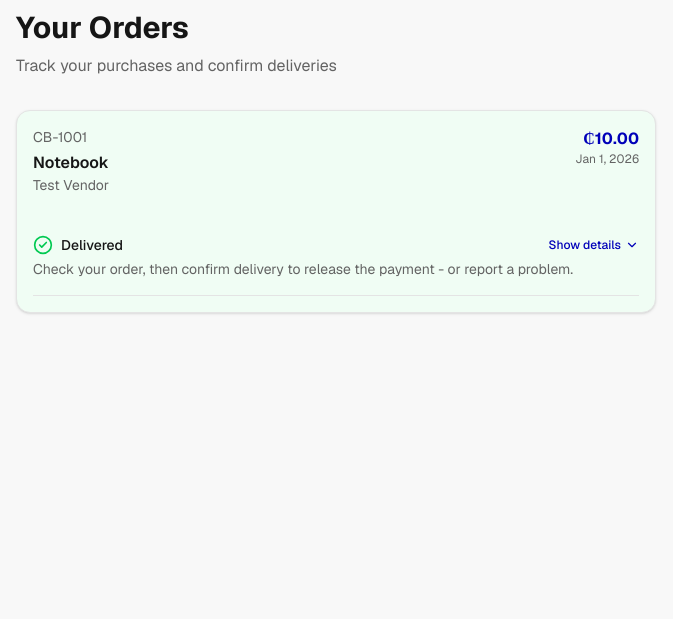
it: OrdersPage dispute flow › asks for more detail instead of submitting a too-short report
Later steps or results of the test are not shown.
Click the heading "Notebook". click: coordinates (71, 162)
box: [33,152,109,173]
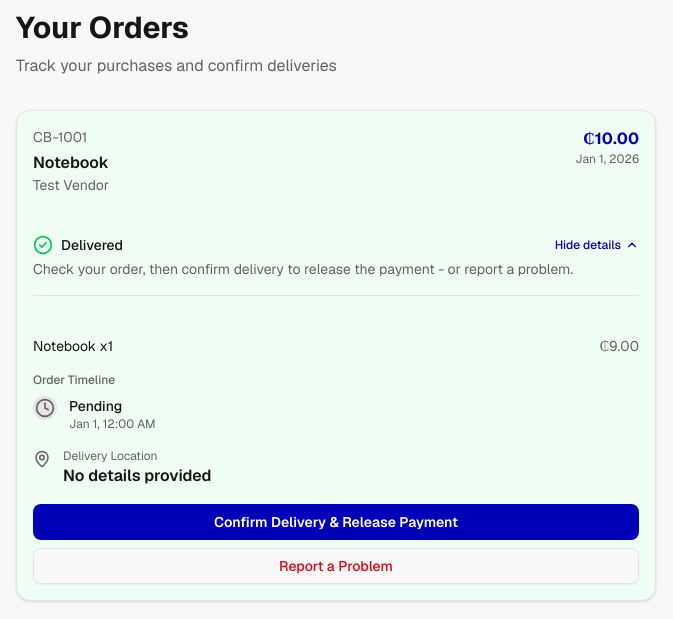
Expected: the button "Report a Problem" is shown, [33,548,639,584]
